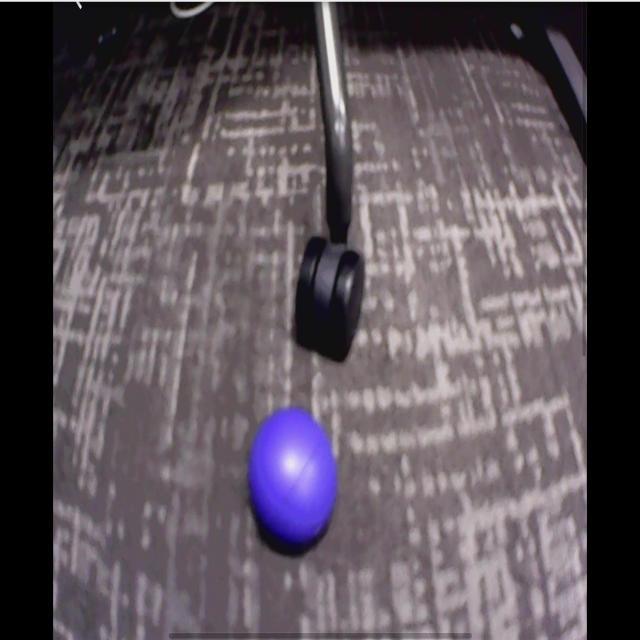ball: (250, 410, 339, 542)
